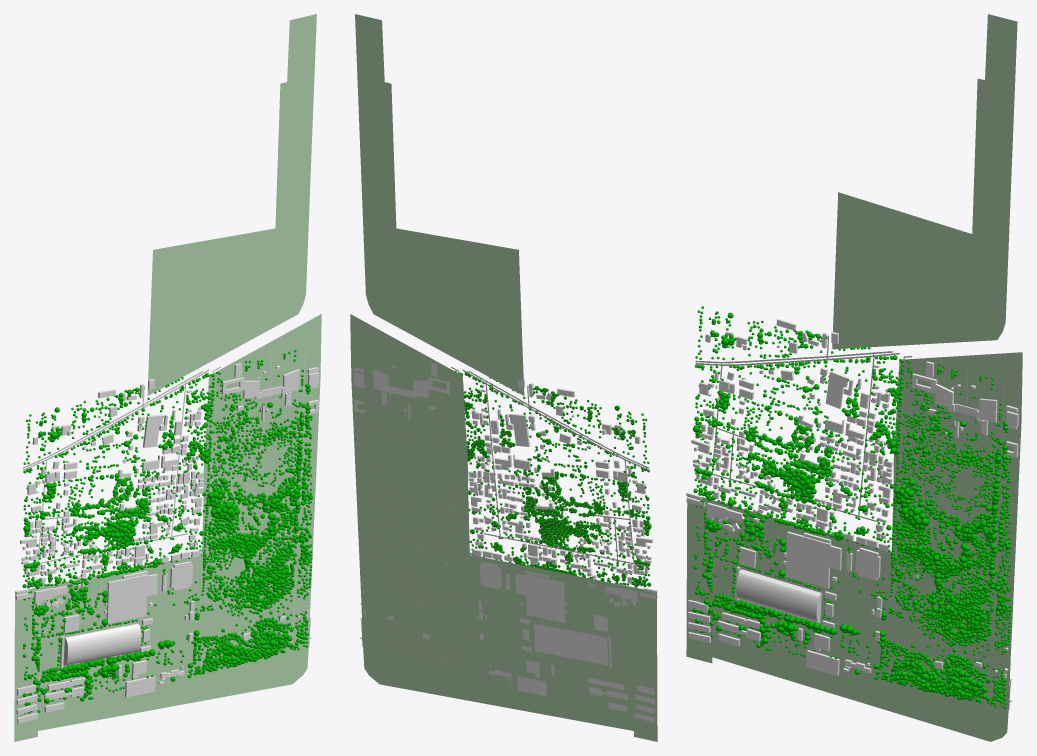
3 renders of one model, left to right at view 1: azimuth 30°, elevation 25°; view 2: azimuth 150°, elevation 25°; view 3: azimuth 330°, elevation 25°, orthographic. The views are drawn at different scales.
Parts seen in each view (by area): view 1: TPX_GreenAreas, TPX_Buildings, TPX_RoadsOutlines; view 2: TPX_GreenAreas, TPX_Buildings, TPX_RoadsOutlines; view 3: TPX_GreenAreas, TPX_Buildings, TPX_RoadsOutlines.
Boxes of the visible parts, box(x1,y1,x2,y2) form: TPX_GreenAreas: box(14, 14, 321, 741); TPX_Buildings: box(15, 363, 319, 723); TPX_RoadsOutlines: box(22, 346, 311, 715); TPX_GreenAreas: box(350, 14, 657, 741); TPX_Buildings: box(353, 363, 657, 722); TPX_RoadsOutlines: box(360, 367, 649, 646); TPX_GreenAreas: box(686, 14, 1022, 741); TPX_Buildings: box(686, 318, 1018, 678); TPX_RoadsOutlines: box(695, 335, 1011, 709).
Size of the model in its own units: 814 by 1682 by 22.
